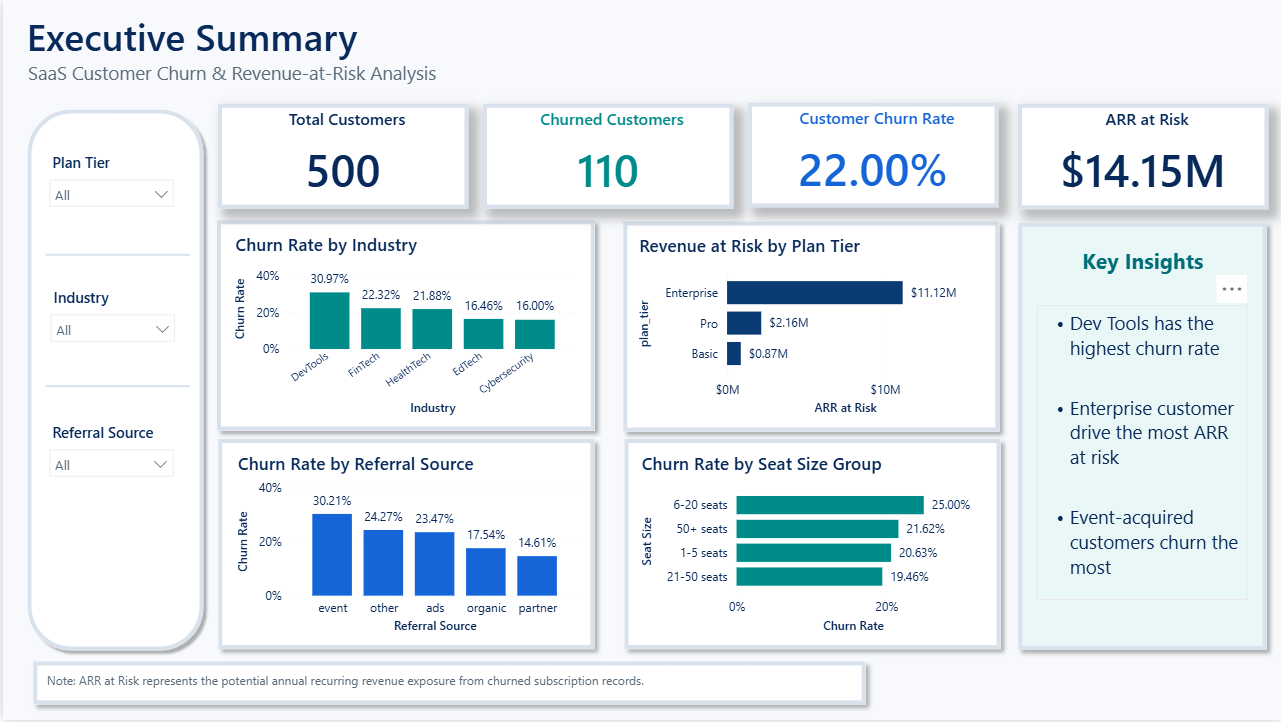

Layout of this report page (visuals, bound fields, positions):
{"tool":"powerbi","page":{"name":"Executive Summary","canvas":[1280,720],"ordinal":0},"visuals":[{"type":"shape","box":[612.2,430.6,394,228],"z":0},{"type":"shape","box":[610.8,212.3,394,228],"z":1000},{"type":"shape","box":[205.5,211.8,395.7,228.3],"z":2000},{"type":"shape","box":[17.1,102.9,190,555],"z":3000},{"type":"shape","box":[43,249.2,144.7,12.3],"z":4000},{"type":"cardVisual","title":"Total Customers","fields":{"Data":["account_analysis.Total Accounts"]},"box":[214.7,103.3,250.1,105],"z":5000},{"type":"cardVisual","title":"Churned Customers","fields":{"Data":["account_analysis.Churned Accounts"]},"box":[479.7,103.3,250.1,105],"z":6000},{"type":"cardVisual","title":"Customer Churn Rate","fields":{"Data":["account_analysis.Churn Rate"]},"box":[744.7,102.9,250.1,105],"z":7000},{"type":"cardVisual","title":"ARR at Risk","fields":{"Data":["account_analysis.ARR at Risk"]},"box":[1014.7,103.3,250.1,105.4],"z":8000},{"type":"clusteredColumnChart","title":"Churn Rate by Industry","fields":{"Category":["account_analysis.industry"],"Y":["account_analysis.Churn Rate"]},"box":[227,232.1,351.3,187.7],"z":9000},{"type":"clusteredBarChart","title":"Revenue at Risk by Plan Tier","fields":{"Category":["subscription_revenue_analysis.plan_tier"],"Y":["account_analysis.ARR at Risk"]},"box":[631.7,233.1,351,187],"z":10000},{"type":"clusteredBarChart","title":"Churn Rate by Seat Size Group","fields":{"Category":["account_analysis.Seat Size Group"],"Y":["account_analysis.Churn Rate"]},"box":[633.3,451.4,351,187],"z":11000},{"type":"slicer","fields":{"Values":["account_analysis.plan_tier"]},"box":[36.4,147.9,144.7,79.7],"z":12000},{"type":"slicer","fields":{"Values":["account_analysis.industry"]},"box":[36.9,282.9,144.7,79],"z":13000},{"type":"slicer","fields":{"Values":["account_analysis.referral_source"]},"box":[36.4,417.9,144,79],"z":14000},{"type":"textbox","box":[19.1,6.3,500,60],"z":15000},{"type":"textbox","box":[20.6,55.4,550,35],"z":16000},{"type":"shape","box":[43,380.4,144.7,12.3],"z":17000},{"type":"shape","box":[206.7,430.6,394,228],"z":18000},{"type":"shape","box":[1006.2,213.9,266.4,445.2],"z":19000},{"type":"clusteredColumnChart","fields":{"Category":["account_analysis.referral_source"],"Y":["account_analysis.Churn Rate"]},"box":[230,450.8,351,187.6],"z":20000},{"type":"textbox","box":[1064.5,241.8,149.7,40.6],"z":21000},{"type":"textbox","box":[1034,305.4,211,294.2],"z":22000},{"type":"shape","box":[21.2,652,850.3,60.8],"z":23000},{"type":"textbox","box":[39.1,666.6,817.4,33.5],"z":23001}]}

Visuals, with their boxes in screenshot pixels (x1, y1, x2, y2), scaled from the page's 1280x720 canvas onto the 1281x722 screenshot:
shape: 613:432:1007:660
shape: 611:213:1006:442
shape: 206:212:602:441
shape: 17:103:207:660
shape: 43:250:188:262
"Total Customers" cardVisual: 215:104:465:209
"Churned Customers" cardVisual: 480:104:730:209
"Customer Churn Rate" cardVisual: 745:103:996:208
"ARR at Risk" cardVisual: 1015:104:1266:209
"Churn Rate by Industry" clusteredColumnChart: 227:233:579:421
"Revenue at Risk by Plan Tier" clusteredBarChart: 632:234:983:421
"Churn Rate by Seat Size Group" clusteredBarChart: 634:453:985:640
slicer - account_analysis.plan_tier: 36:148:181:228
slicer - account_analysis.industry: 37:284:182:363
slicer - account_analysis.referral_source: 36:419:181:498
textbox: 19:6:520:66
textbox: 21:56:571:91
shape: 43:381:188:394
shape: 207:432:601:660
shape: 1007:214:1274:661
clusteredColumnChart - account_analysis.referral_source x account_analysis.Churn Rate: 230:452:581:640
textbox: 1065:242:1215:283
textbox: 1035:306:1246:601
shape: 21:654:872:715
textbox: 39:668:857:702
